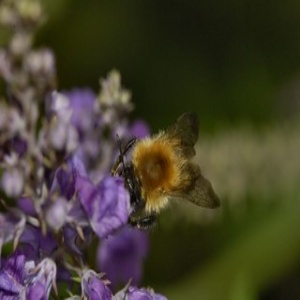bee: (108, 111, 226, 238)
